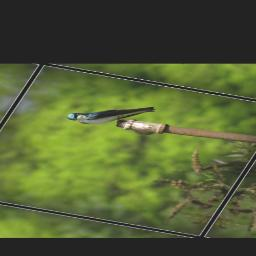Swallow: (63, 94, 161, 134)
